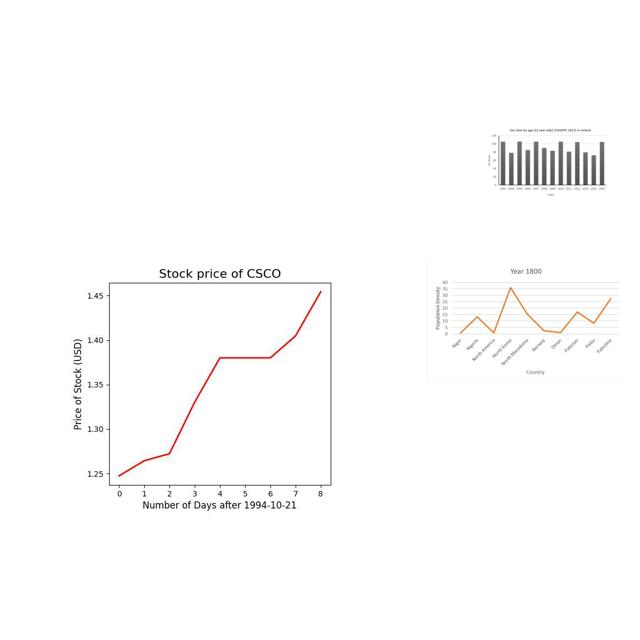Graph: (40, 251, 391, 514), (427, 262, 624, 382), (484, 125, 614, 200)
